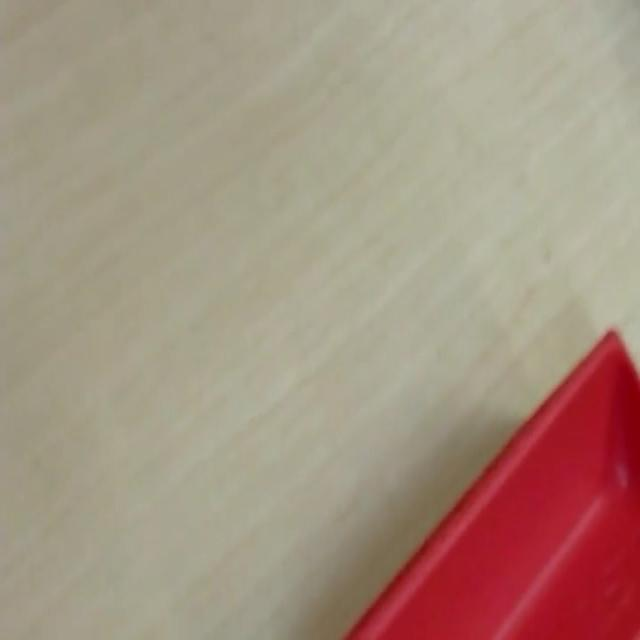red_block: (341, 324, 638, 637)
